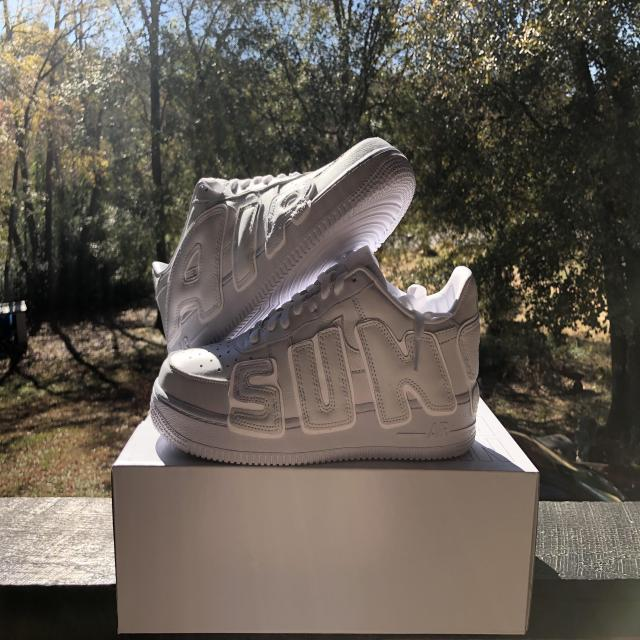shoe: (150, 247, 482, 469), (151, 135, 419, 347)
